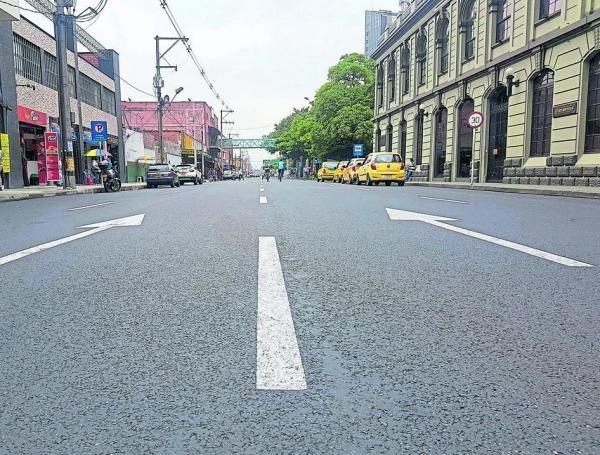car: (328, 151, 410, 184), (356, 153, 410, 184)
